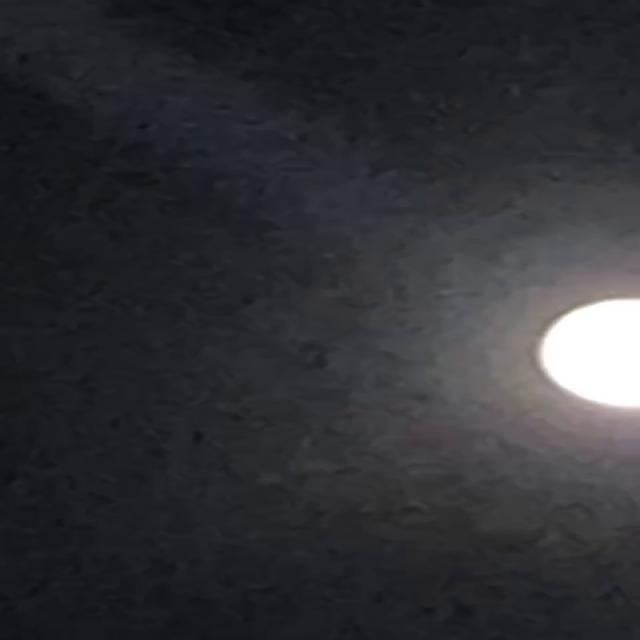moon: (518, 293, 640, 410)
